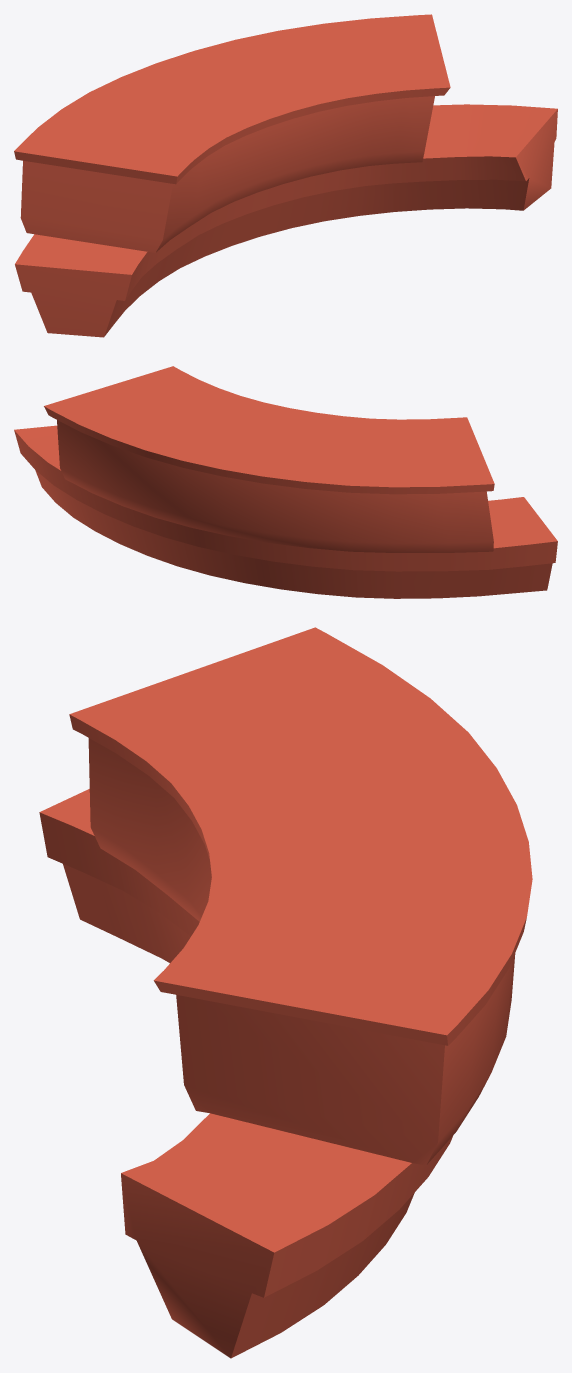
File: pillarDeco.fbx
The picture shows the model from 3 angles, top to bottom: view 1: azimuth 30°, elevation 25°; view 2: azimuth 150°, elevation 25°; view 3: azimuth 270°, elevation 25°; orthographic projection. The views are drawn at different scales.
Parts seen in each view (by area): view 1: pillarDeco; view 2: pillarDeco; view 3: pillarDeco.
Boxes of the visible parts, x1=… form: pillarDeco: x1=14, y1=14, x2=557, y2=337; pillarDeco: x1=14, y1=366, x2=557, y2=598; pillarDeco: x1=39, y1=627, x2=532, y2=1358.
Bounding box in the file's own units: 1550 × 381 × 634.
